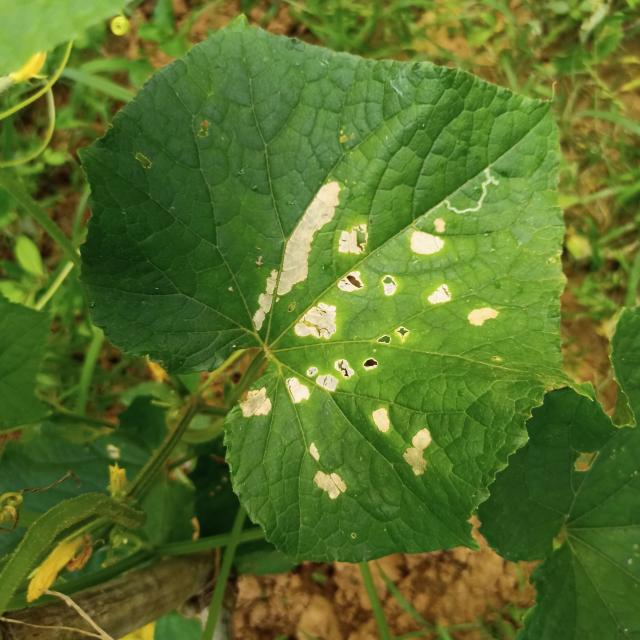disease_cucumber: (242, 177, 376, 344), (367, 217, 516, 350), (237, 318, 418, 421), (303, 404, 436, 506)
